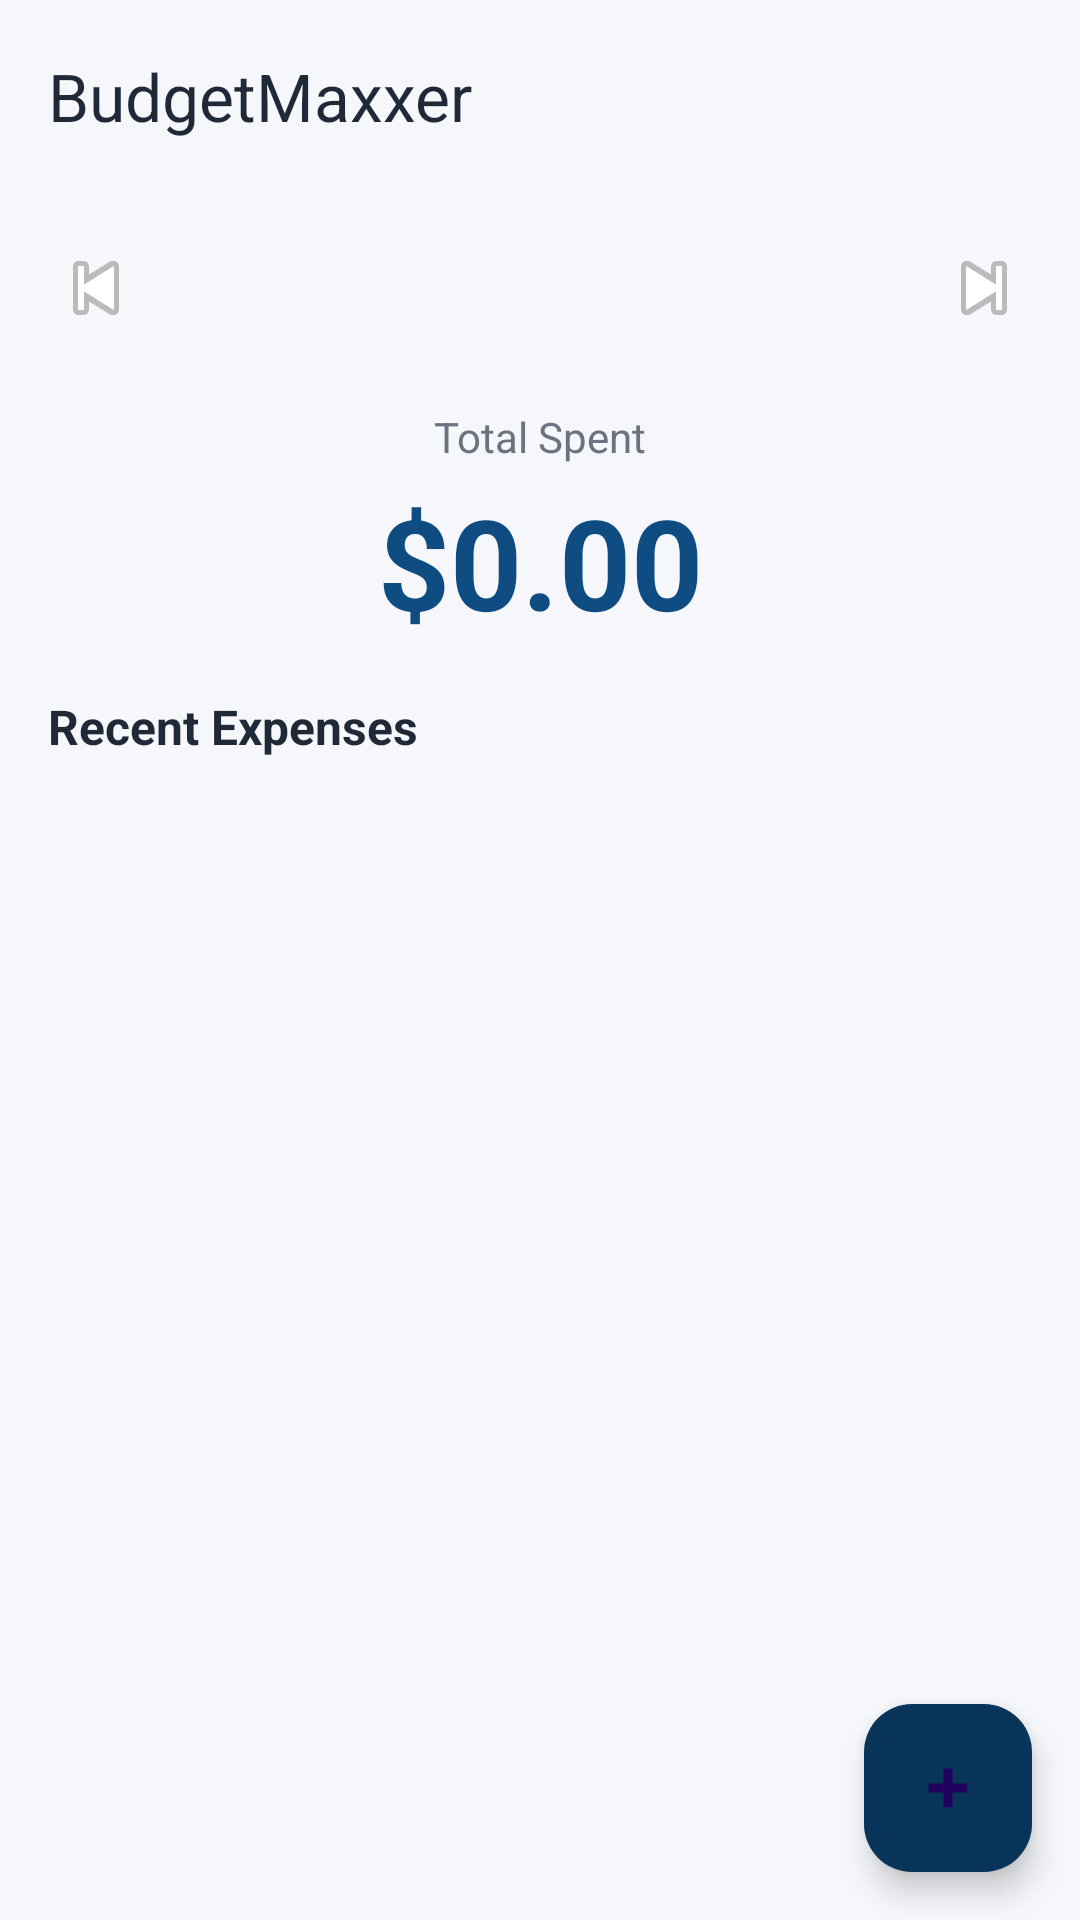

Icon bounding boxes for this 1080*1920 phone screenshot, format region(x1, y1, x2, y2):
Add expense: region(864, 1704, 1032, 1872)
Next month: region(961, 261, 1007, 315)
Previous month: region(73, 261, 119, 315)
